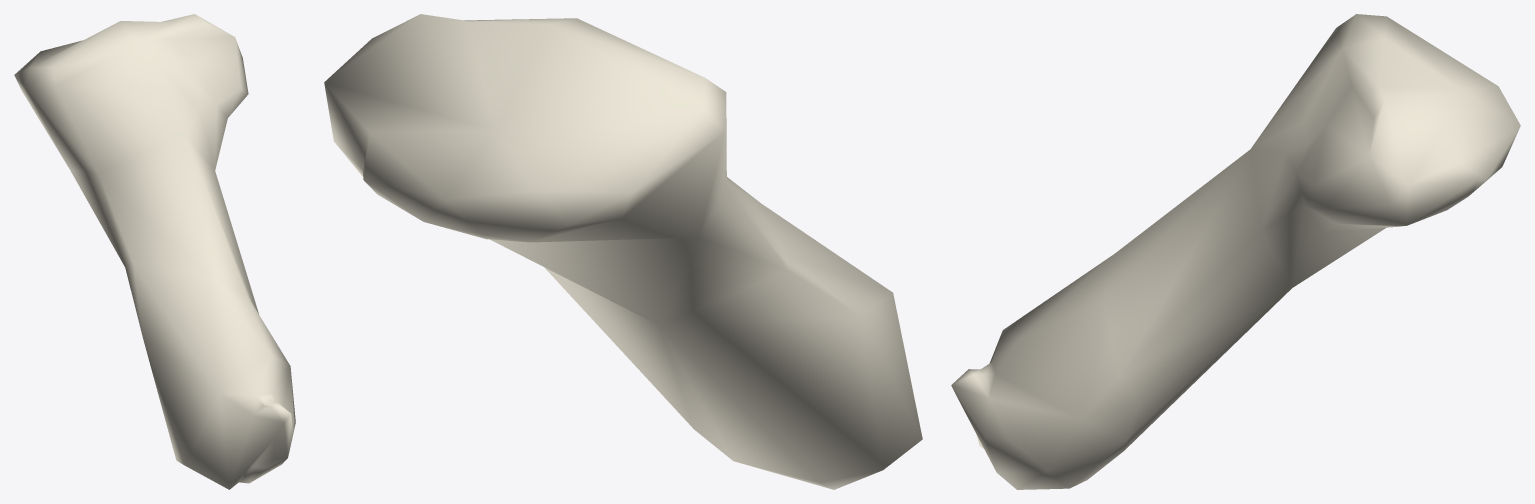
3 views of the same model, side by side, from view 1: azimuth 30°, elevation 25°; view 2: azimuth 150°, elevation 25°; view 3: azimuth 270°, elevation 25° (orthographic). The views are drawn at different scales.
Visible parts, largest first — view 1: ZA_ccff27b79ec8e9af; view 2: ZA_ccff27b79ec8e9af; view 3: ZA_ccff27b79ec8e9af.
Part boxes in pixels (x1=…): ZA_ccff27b79ec8e9af: x1=14, y1=14, x2=295, y2=489; ZA_ccff27b79ec8e9af: x1=324, y1=14, x2=922, y2=489; ZA_ccff27b79ec8e9af: x1=951, y1=14, x2=1520, y2=489.
Bounding box in the file's own units: 0.00858 × 0.0131 × 0.0148.
